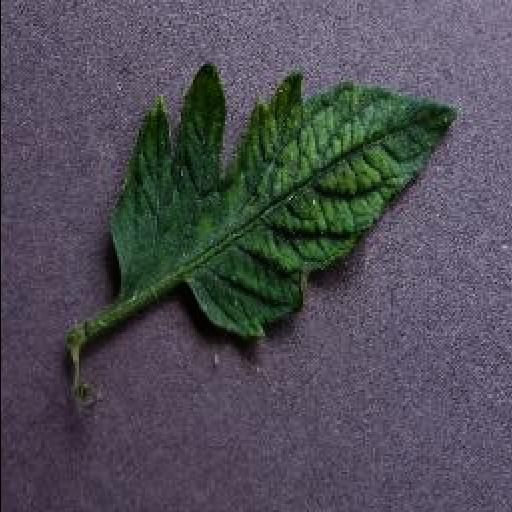disease_tomato: (108, 58, 458, 338)
